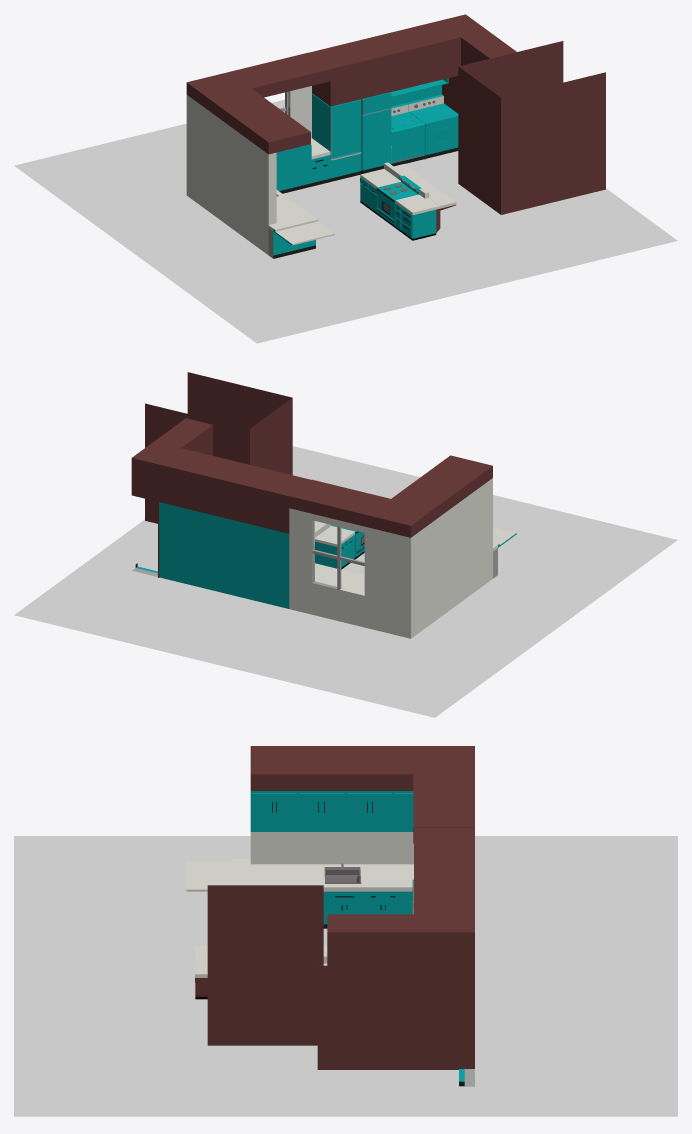
The model's file is Scaled_up_Kitch_mod.fbx.
3 renders of one model, top to bottom at view 1: azimuth 30°, elevation 25°; view 2: azimuth 150°, elevation 25°; view 3: azimuth 270°, elevation 25°, orthographic. The views are drawn at different scales.
Parts seen in each view (by area): view 1: pCube48; view 2: pCube48; view 3: pCube48.
Part boxes in pixels (<box>): pCube48: <box>14,14,677,343</box>; pCube48: <box>14,372,677,717</box>; pCube48: <box>14,746,677,1116</box>.
Bounding box in the file's own units: 1255 × 354 × 1255.
